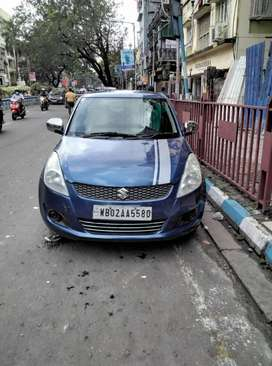WB02AA5580: (92, 204, 152, 221)
